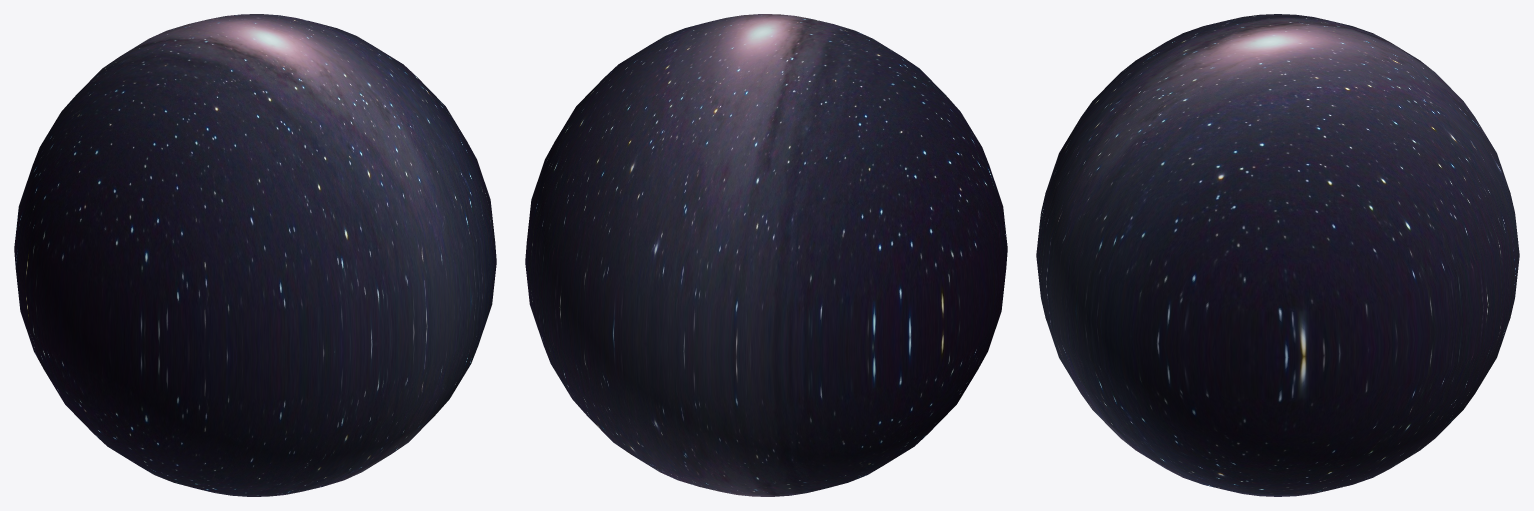
The model's file is stage_00.FBX.
The picture shows the model from 3 angles, left to right: view 1: azimuth 30°, elevation 25°; view 2: azimuth 150°, elevation 25°; view 3: azimuth 270°, elevation 25°; orthographic projection.
Parts seen in each view (by area): view 1: Sphere001; view 2: Sphere001; view 3: Sphere001.
Part boxes in pixels (x1,y1,x2,y2): Sphere001: (14,14,496,496); Sphere001: (525,14,1007,496); Sphere001: (1036,14,1519,496).
Size of the model in its own units: 26263 by 26263 by 26263.
